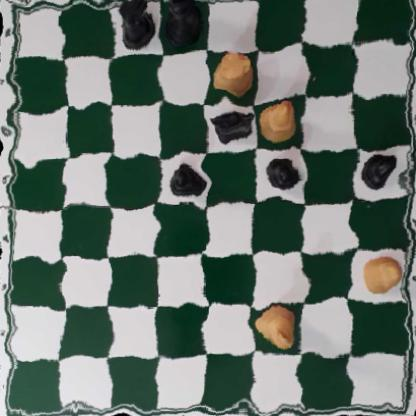black-king: (164, 0, 206, 48)
black-knight: (208, 110, 257, 145)
black-pawn: (359, 145, 397, 187), (166, 161, 204, 203), (266, 153, 298, 199)
black-rook: (115, 0, 160, 53)
white-bishop: (259, 96, 300, 141)
white-king: (256, 303, 300, 350)
white-pawn: (362, 254, 405, 295)
white-rook: (211, 48, 253, 102)
